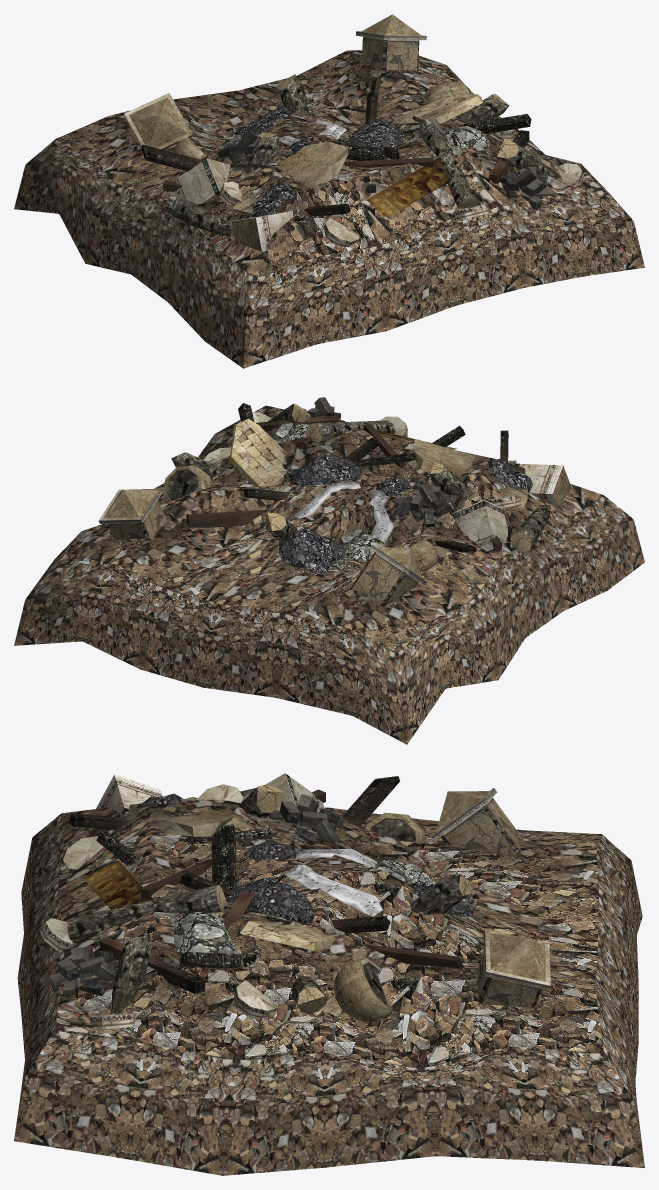
Rendered from cart_town_center_rubble.glb.
3 renders of one model, top to bottom at view 1: azimuth 30°, elevation 25°; view 2: azimuth 150°, elevation 25°; view 3: azimuth 270°, elevation 25°, orthographic. The views are drawn at different scales.
Parts seen in each view (by area): view 1: cart_town_center_rubble_part0, cart_town_center_rubble_part1; view 2: cart_town_center_rubble_part0, cart_town_center_rubble_part1; view 3: cart_town_center_rubble_part0, cart_town_center_rubble_part1.
Boxes of the visible parts, x1,y1,x2,y2 form: cart_town_center_rubble_part0: (14,50,644,368); cart_town_center_rubble_part1: (124,14,584,251); cart_town_center_rubble_part0: (14,397,644,744); cart_town_center_rubble_part1: (98,403,571,606); cart_town_center_rubble_part0: (14,776,644,1175); cart_town_center_rubble_part1: (40,773,550,1029).
Size of the model in its own units: 6.2 by 2.15 by 6.12.
2 materials, 2 textured.
